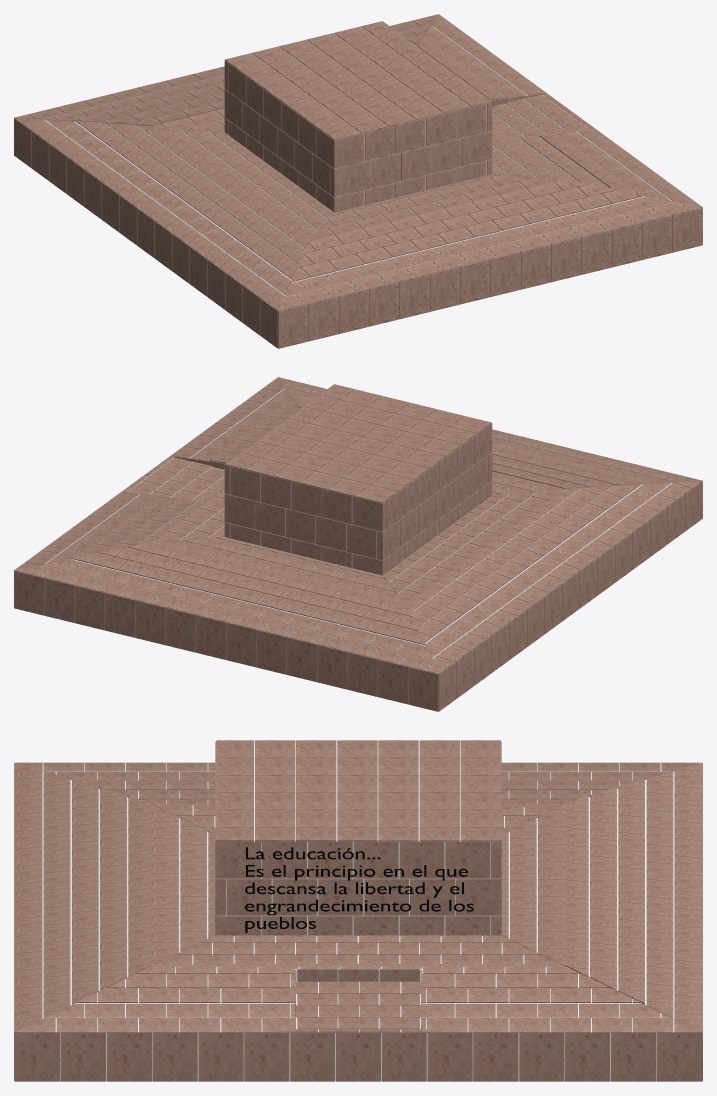
The model's file is BenitoJuarez.fbx.
The picture shows the model from 3 angles, top to bottom: view 1: azimuth 30°, elevation 25°; view 2: azimuth 150°, elevation 25°; view 3: azimuth 270°, elevation 25°; orthographic projection. The views are drawn at different scales.
Parts seen in each view (by area): view 1: piso.019, piso.004, piso.006, piso.052, piso.035, piso.032, piso.014, piso.013, piso.037, piso.038, piso.041, piso.042 (+30 smaller); view 2: piso.019, piso.005, piso.006, piso.051, piso.035, piso.033, piso.017, piso.037, piso.016, piso.039, piso.041, piso.043 (+30 smaller); view 3: piso.003, piso.019, piso.007, piso.008, piso.001, piso.034, piso.051, piso.052, piso.036, piso.033, piso.032, piso.040 (+35 smaller).
Part boxes in pixels (x1=…): piso.019: x1=225, y1=21, x2=491, y2=140; piso.004: x1=278, y1=207, x2=702, y2=348; piso.006: x1=14, y1=118, x2=277, y2=348; piso.052: x1=278, y1=201, x2=702, y2=310; piso.035: x1=15, y1=117, x2=284, y2=310; piso.032: x1=285, y1=196, x2=674, y2=296; piso.014: x1=334, y1=130, x2=492, y2=197; piso.013: x1=334, y1=102, x2=492, y2=168; piso.037: x1=45, y1=119, x2=291, y2=295; piso.038: x1=291, y1=189, x2=645, y2=281; piso.041: x1=76, y1=121, x2=298, y2=279; piso.042: x1=298, y1=184, x2=617, y2=267; piso.019: x1=225, y1=384, x2=491, y2=503; piso.005: x1=14, y1=570, x2=438, y2=711; piso.006: x1=439, y1=481, x2=702, y2=711; piso.051: x1=14, y1=564, x2=438, y2=673; piso.035: x1=432, y1=480, x2=701, y2=673; piso.033: x1=43, y1=559, x2=432, y2=659; piso.017: x1=224, y1=493, x2=382, y2=560; piso.037: x1=425, y1=482, x2=671, y2=657; piso.016: x1=224, y1=465, x2=382, y2=531; piso.039: x1=71, y1=552, x2=425, y2=645; piso.041: x1=418, y1=484, x2=640, y2=642; piso.043: x1=99, y1=547, x2=418, y2=630; piso.003: x1=15, y1=1032, x2=701, y2=1081; piso.019: x1=216, y1=740, x2=500, y2=841; piso.007: x1=216, y1=841, x2=500, y2=878; piso.008: x1=216, y1=879, x2=500, y2=915; piso.001: x1=42, y1=763, x2=674, y2=1081; piso.034: x1=16, y1=1018, x2=700, y2=1032; piso.051: x1=674, y1=762, x2=701, y2=1032; piso.052: x1=15, y1=762, x2=42, y2=1032; piso.036: x1=46, y1=1003, x2=670, y2=1017; piso.033: x1=646, y1=771, x2=673, y2=1017; piso.032: x1=43, y1=771, x2=70, y2=1017; piso.040: x1=76, y1=988, x2=640, y2=1002.
Bounding box in the file's own units: 475 × 128 × 512.
3 materials, 1 textured.
